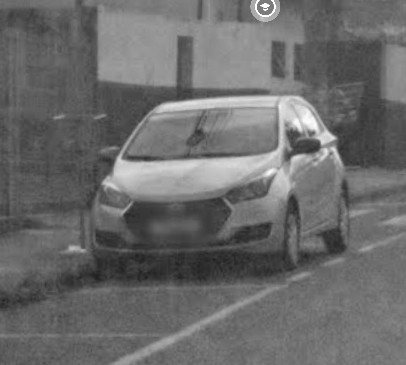car: (83, 87, 355, 287)
